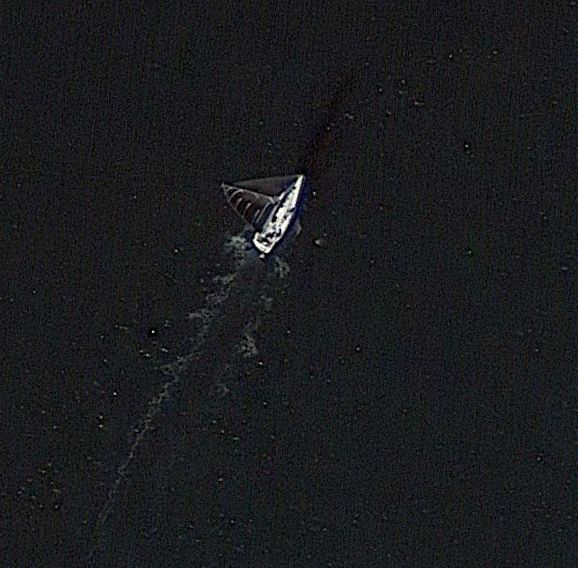boat: (221, 166, 309, 256)
